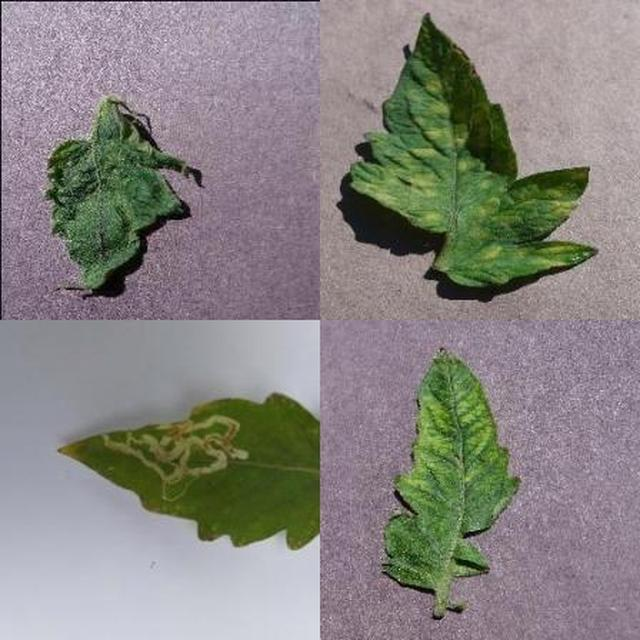Mosaic Virus Leaf: (167, 213, 640, 640)
